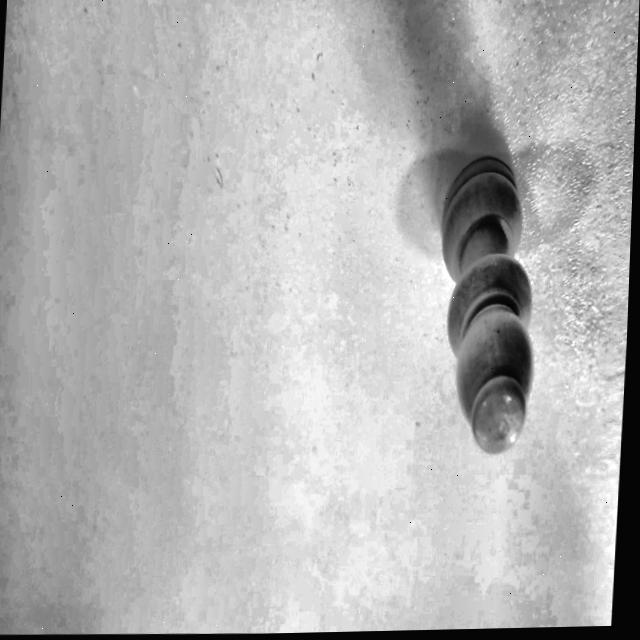white-bishop: (392, 119, 568, 496)
